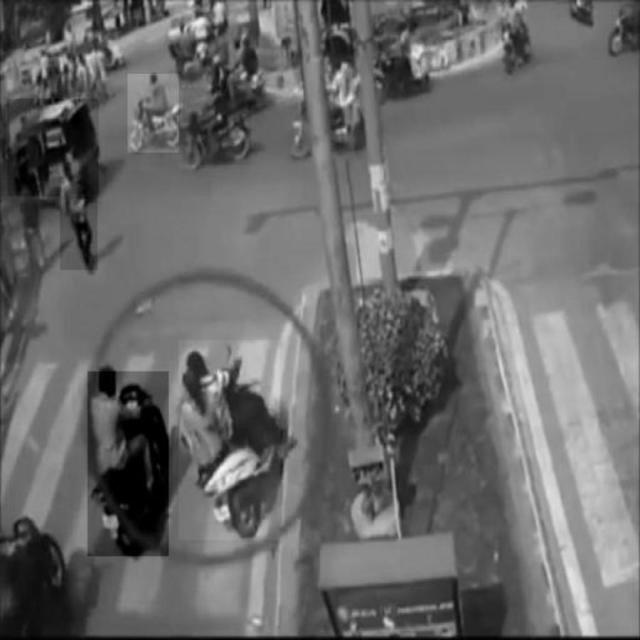person: (60, 158, 98, 270)
vehicle: (179, 340, 280, 540), (88, 371, 169, 556), (8, 99, 99, 197), (183, 88, 251, 165), (128, 74, 179, 152)
